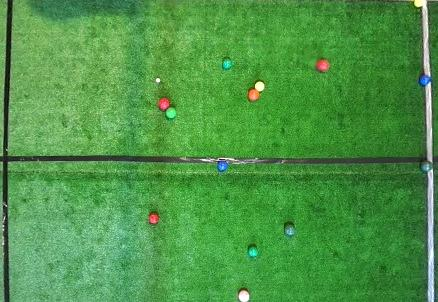blue: (419, 75, 431, 85), (217, 161, 228, 171)
green: (285, 225, 296, 236), (166, 107, 176, 119), (420, 161, 432, 171), (222, 59, 232, 69), (249, 247, 258, 257)
red: (316, 58, 329, 72), (158, 98, 170, 111), (237, 290, 250, 301), (248, 89, 259, 101), (149, 213, 159, 224)
vline: (425, 171, 437, 302), (420, 0, 437, 77), (423, 86, 437, 162)
white: (156, 78, 160, 83)
yellow: (413, 0, 426, 9), (255, 81, 264, 91)
